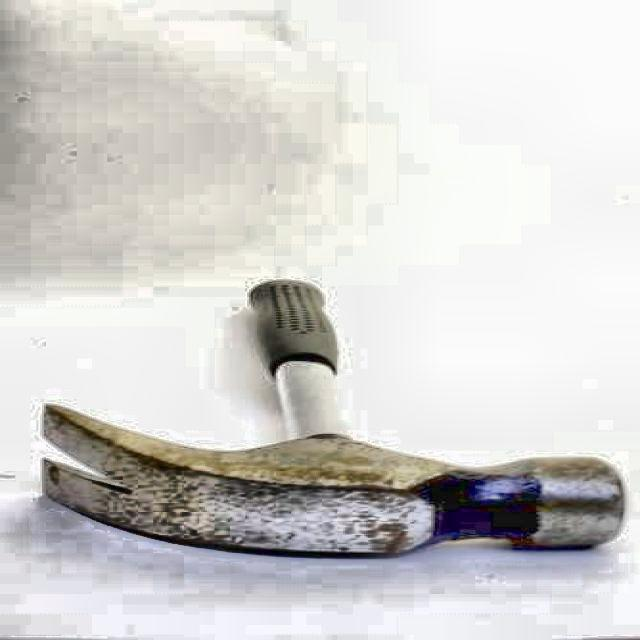hammer: (43, 278, 627, 557)
